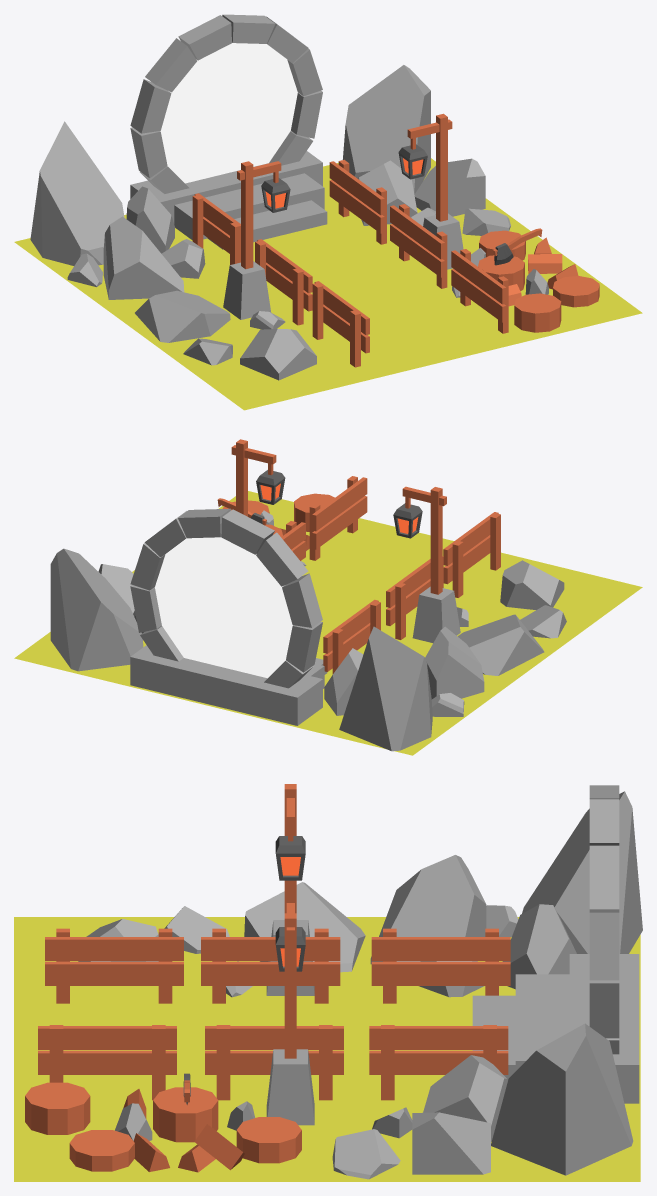
File: portal.glb
3 views of the same model, one above another, from view 1: azimuth 30°, elevation 25°; view 2: azimuth 150°, elevation 25°; view 3: azimuth 270°, elevation 25° (orthographic). The views are drawn at different scales.
Visible parts, largest first — view 1: Plane.001, Circle; view 2: Plane.001, Circle; view 3: Plane.001.
Boxes of the visible parts, x1,y1,x2,y2 form: Plane.001: (14, 14, 642, 410); Circle: (160, 43, 297, 183); Plane.001: (14, 439, 642, 755); Circle: (155, 537, 292, 678); Plane.001: (14, 784, 642, 1181).
Size of the model in its own units: 4 by 1.77 by 4.01.
